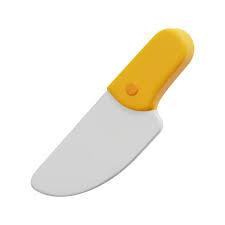Knife: (30, 27, 194, 197)
